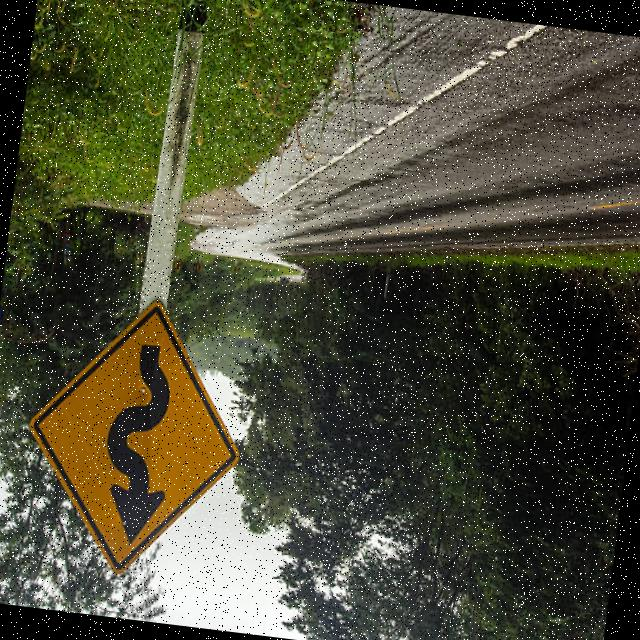left_sharp_curve: (11, 283, 258, 592)
